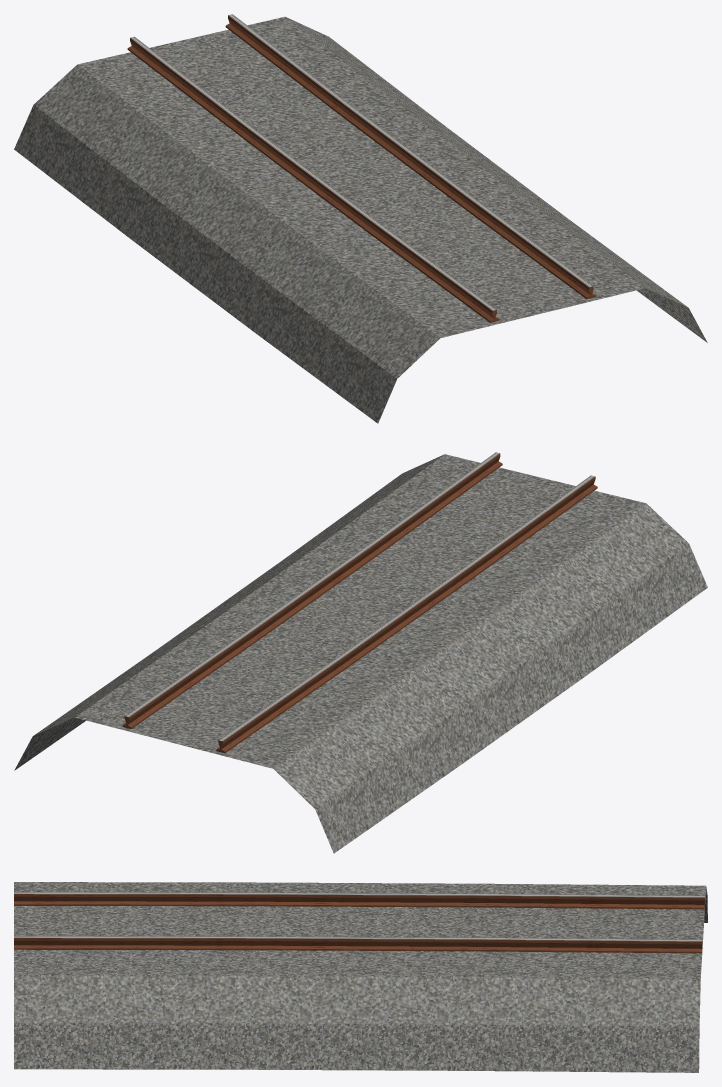
Rendered from rail_track_curve_r400_10m_r_v2_bed.glb.
3 views of the same model, one above another, from view 1: azimuth 30°, elevation 25°; view 2: azimuth 150°, elevation 25°; view 3: azimuth 270°, elevation 25° (orthographic). The views are drawn at different scales.
Visible parts, largest first — view 1: rail_track_curve_r400_10m_r_v2_bed; view 2: rail_track_curve_r400_10m_r_v2_bed; view 3: rail_track_curve_r400_10m_r_v2_bed.
Part boxes in pixels (<box>): rail_track_curve_r400_10m_r_v2_bed: <box>14,14,707,423</box>; rail_track_curve_r400_10m_r_v2_bed: <box>14,452,707,853</box>; rail_track_curve_r400_10m_r_v2_bed: <box>14,882,707,1072</box>.
Size of what is drawn, in the model's own units: 5.27 by 1.27 by 10.06.
Materials: 2 (2 with a texture image).
